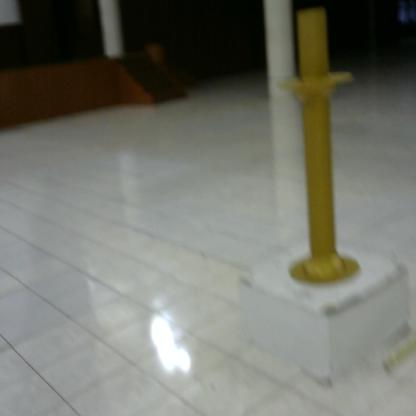pole: (268, 1, 372, 290)
